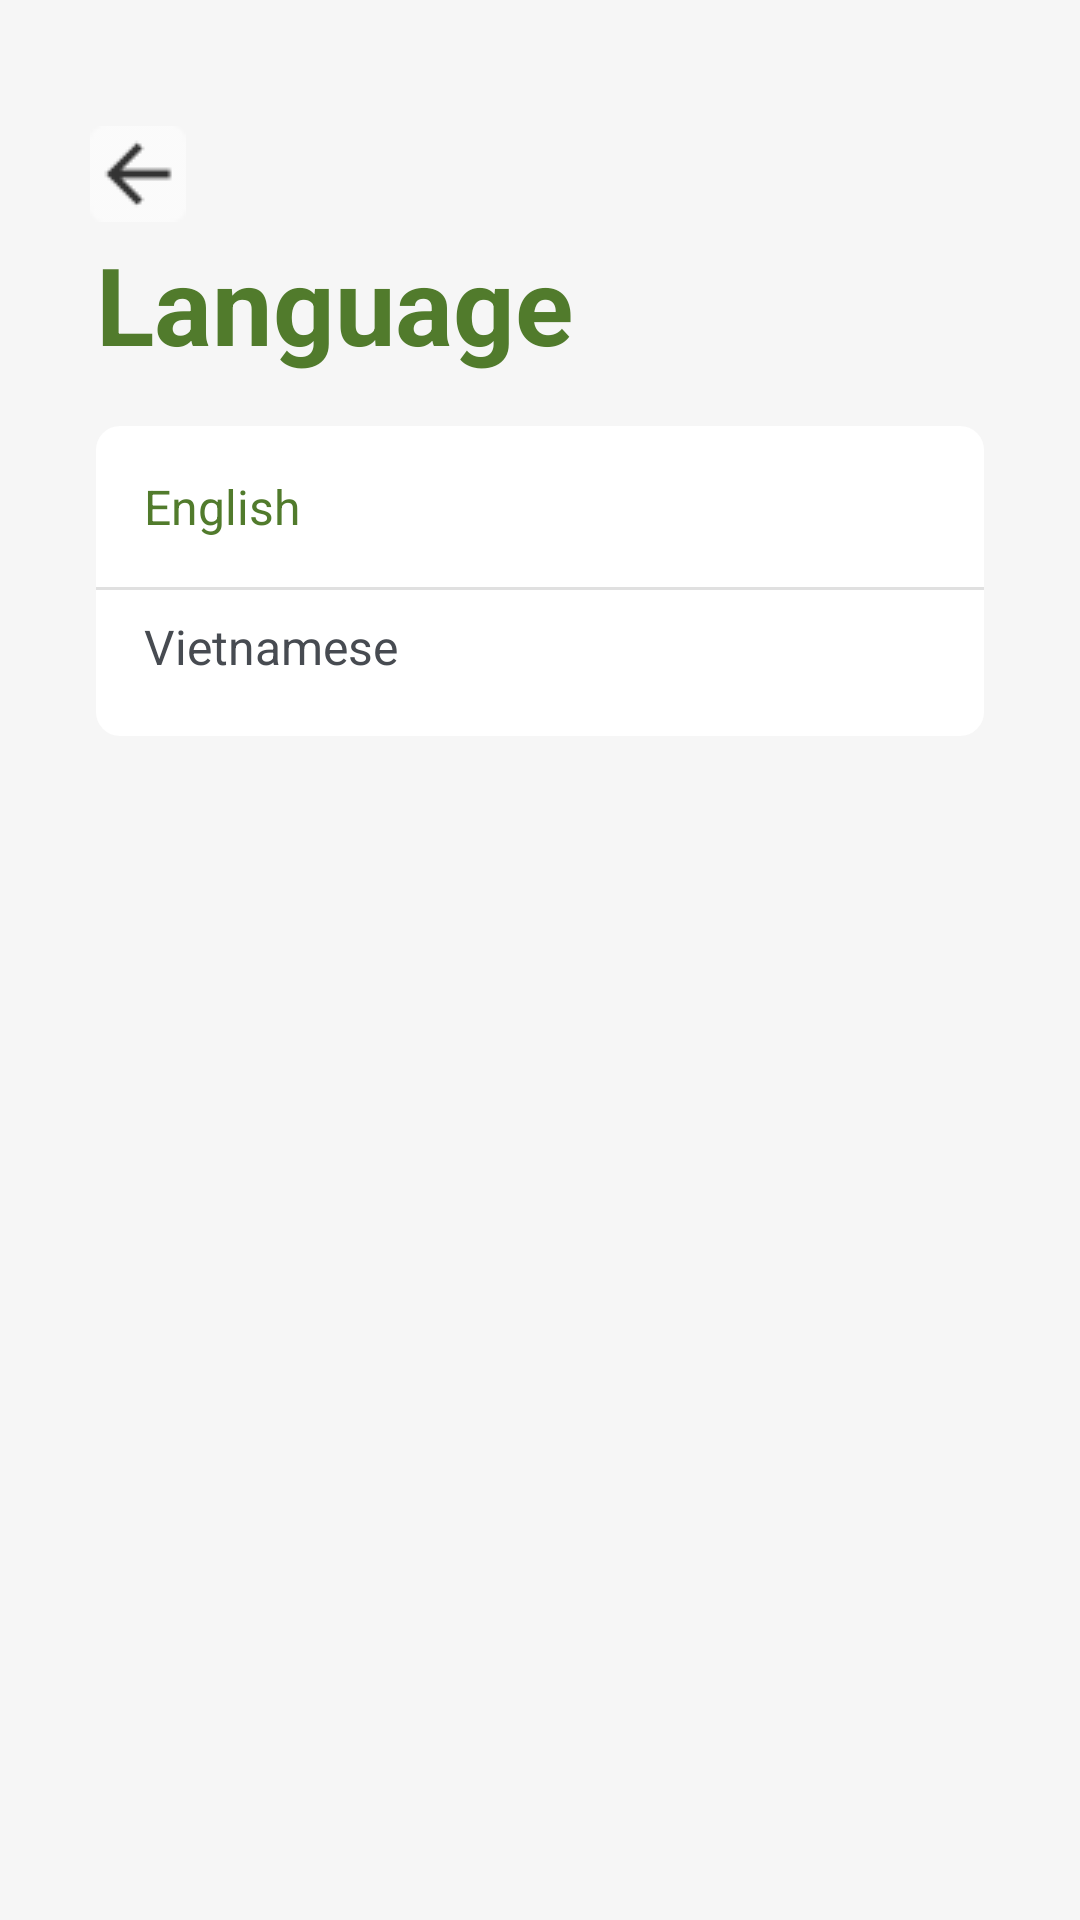

Where to tap for icons on this 1080w x 1920h app screen, as (x=x, y=y):
back: (x=138, y=173)
